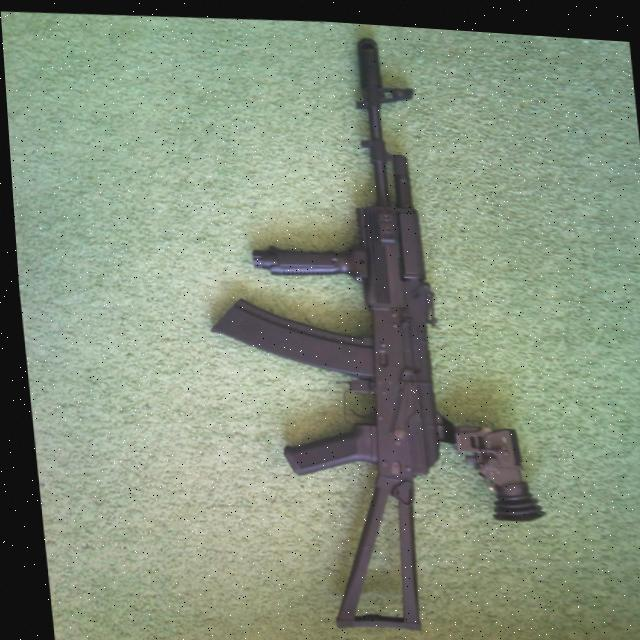firearm: (178, 14, 549, 639)
